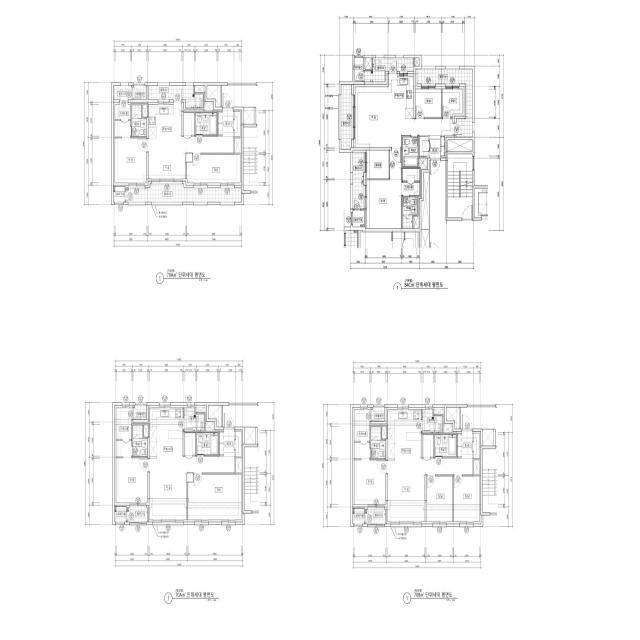space_balconi: (417, 69, 472, 137), (126, 184, 242, 202), (148, 86, 203, 108), (365, 58, 414, 82), (341, 85, 351, 150), (353, 153, 363, 209), (422, 410, 443, 433), (184, 408, 204, 431), (365, 508, 386, 524), (127, 506, 147, 522), (113, 86, 131, 100)
space_bedroom: (367, 150, 401, 229), (188, 474, 241, 520), (187, 155, 240, 183), (116, 458, 148, 503), (354, 460, 386, 505), (115, 138, 146, 183), (427, 476, 453, 522), (454, 476, 479, 522), (415, 89, 441, 117), (442, 89, 462, 117)
space_dressroom: (116, 408, 132, 457), (354, 410, 370, 459), (115, 102, 130, 137), (402, 169, 419, 195)
space_front: (218, 109, 240, 137), (219, 429, 241, 457), (457, 430, 473, 458), (429, 135, 445, 156)
space_kitchen: (388, 410, 421, 459), (150, 408, 183, 457), (148, 102, 182, 137), (389, 74, 413, 119)
space_living_room: (355, 87, 453, 147), (388, 458, 473, 522), (150, 457, 235, 520), (148, 137, 233, 179)
space_multipurpose_space: (367, 150, 389, 179)
space_other: (421, 172, 429, 229), (446, 407, 460, 429), (208, 406, 222, 427), (207, 86, 220, 107), (448, 140, 472, 151), (423, 434, 434, 457), (185, 433, 196, 455), (184, 113, 194, 135), (354, 58, 363, 82), (371, 407, 385, 421), (133, 86, 146, 100), (133, 405, 146, 419), (243, 108, 254, 124), (419, 137, 428, 156), (245, 427, 255, 444), (483, 429, 493, 446), (474, 433, 479, 458), (236, 458, 242, 473), (419, 158, 427, 168), (365, 58, 372, 69), (474, 460, 479, 475), (235, 138, 240, 153), (443, 425, 452, 433), (205, 423, 214, 431), (204, 103, 213, 111), (195, 86, 205, 93), (382, 427, 387, 439), (434, 409, 443, 415), (196, 407, 205, 413), (143, 105, 147, 117), (414, 217, 418, 229), (144, 425, 148, 437), (415, 58, 419, 66)
space_outdoor_room: (353, 210, 364, 227), (113, 187, 125, 202), (115, 506, 126, 522), (353, 508, 364, 524)
space_staircase: (448, 154, 472, 218)
space_toilet: (195, 113, 217, 135), (435, 434, 456, 457), (371, 427, 386, 459), (402, 137, 418, 167), (402, 197, 417, 229), (133, 425, 148, 457), (197, 433, 218, 455), (132, 105, 146, 137)
